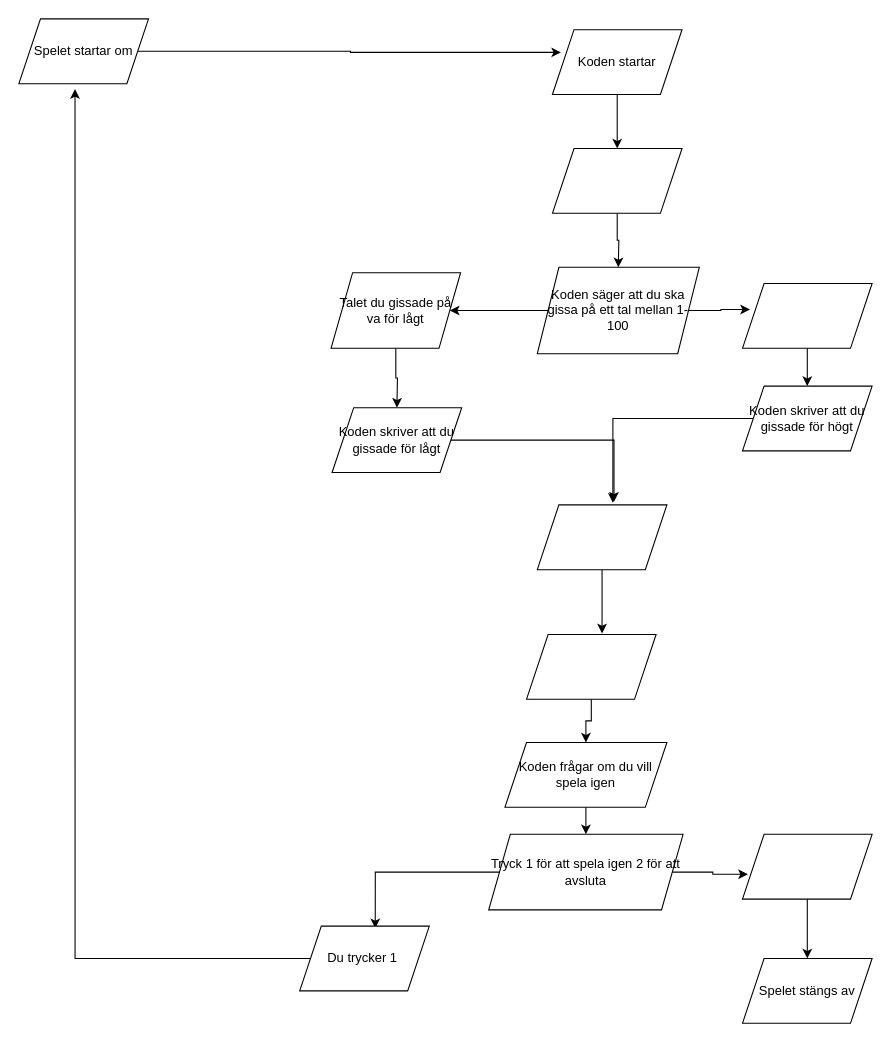
Some shapes in this 891 by 1042 pixel diagram are drawn without their labels. Each missing label, with the box of its shape:
Du fortsätter gissa tills få får rätt: (536, 504, 667, 570)
Du får rätt: (525, 633, 656, 699)
Du trycker 2: (741, 833, 872, 899)
Koden väljer ett nummer mellan 1-100: (551, 147, 682, 213)
Talet du gissade på va för högt: (741, 282, 872, 348)
